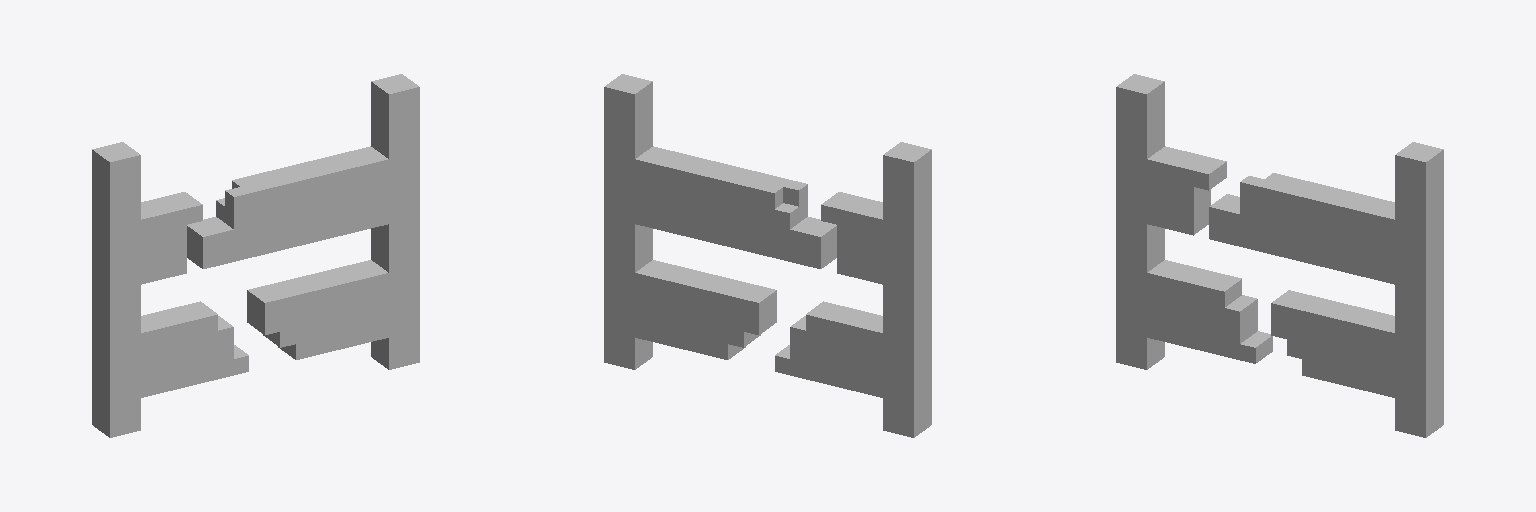
The model's file is broken fence.obj.
3 renders of one model, left to right at view 1: azimuth 30°, elevation 25°; view 2: azimuth 150°, elevation 25°; view 3: azimuth 330°, elevation 25°, orthographic.
Visible parts, largest first — view 1: default; view 2: default; view 3: default.
Part boxes in pixels (x1,y1,x2,y2): default: (92,74,419,437); default: (604,74,931,437); default: (1116,74,1443,437).
Bounding box in the file's own units: 20 × 17 × 2.